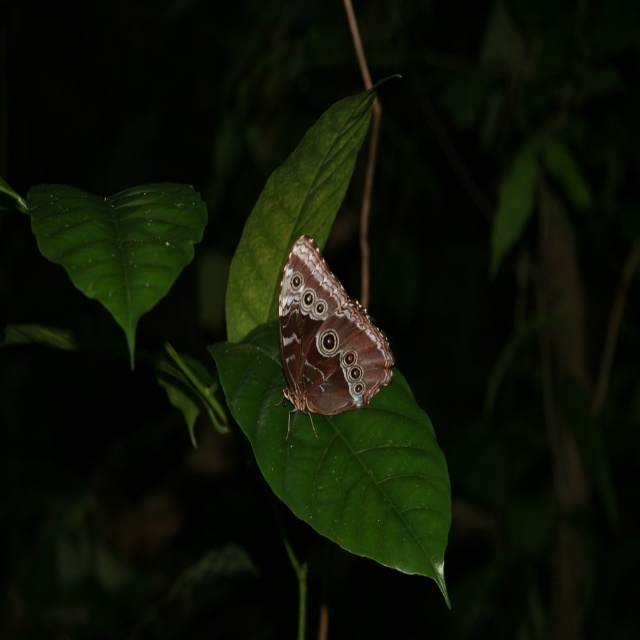Butterfly: (273, 233, 394, 435)
